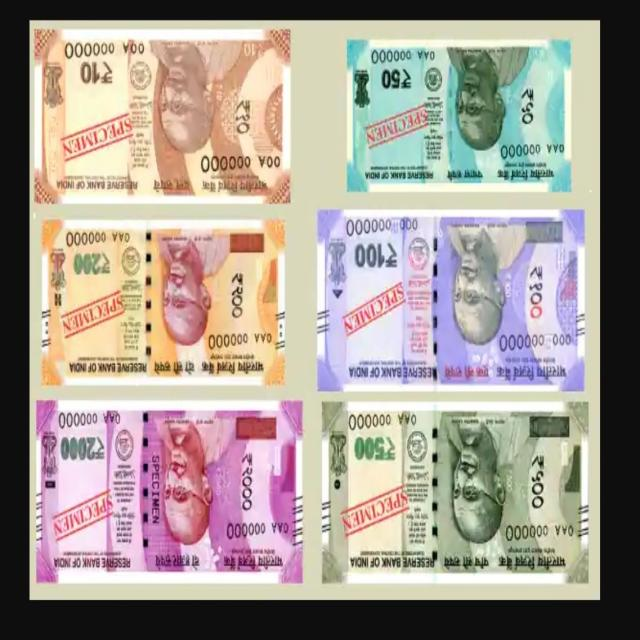50IndianRupees: (348, 40, 572, 192)
